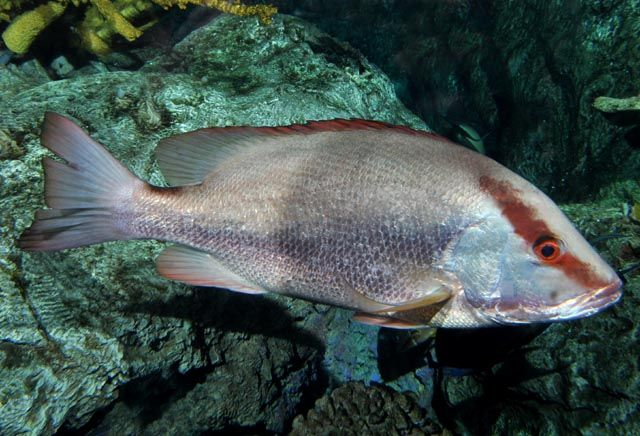fish: (15, 111, 622, 330)
